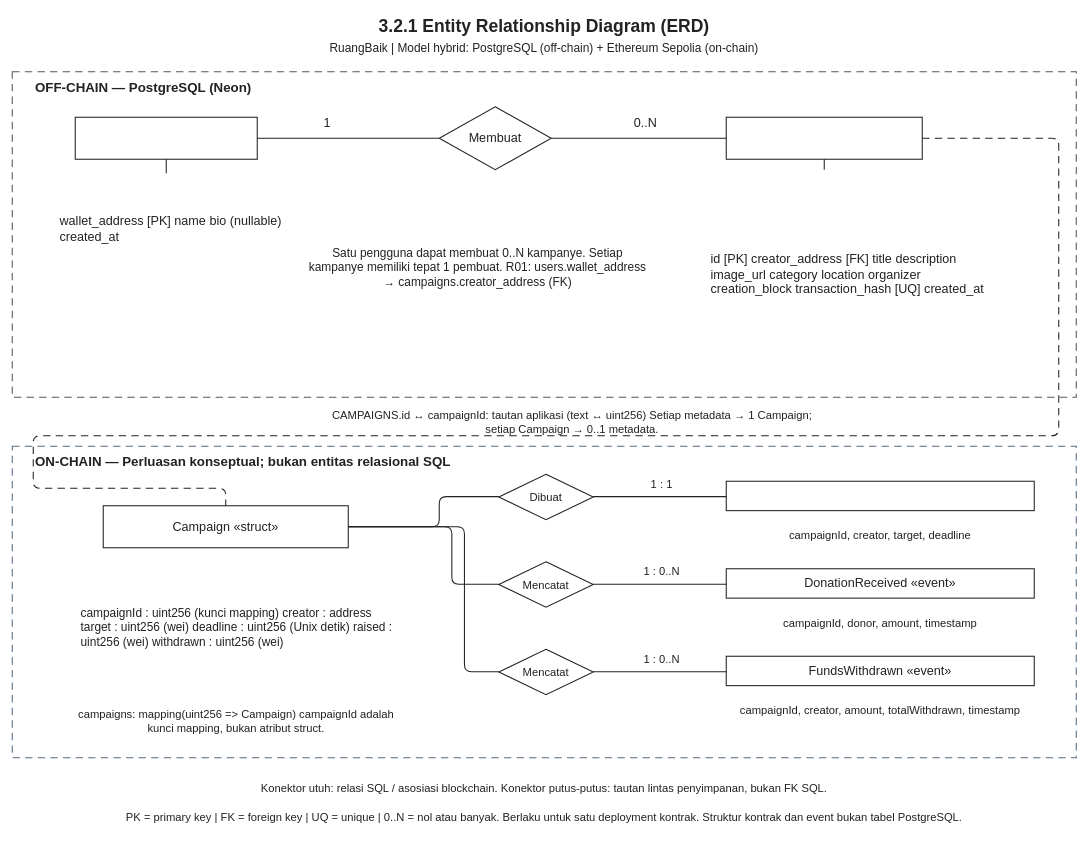
The diagram is 1089 pixels wide and 843 high, and some of its shapes have lost their labels. The shapes that lost their labels are listed below. From the top down, each one's box as (x1, y1, x2, y2) in pixels, then its label:
(74, 116, 257, 159): USERS
(725, 116, 922, 159): CAMPAIGNS
(725, 480, 1034, 511): CampaignCreated «event»
